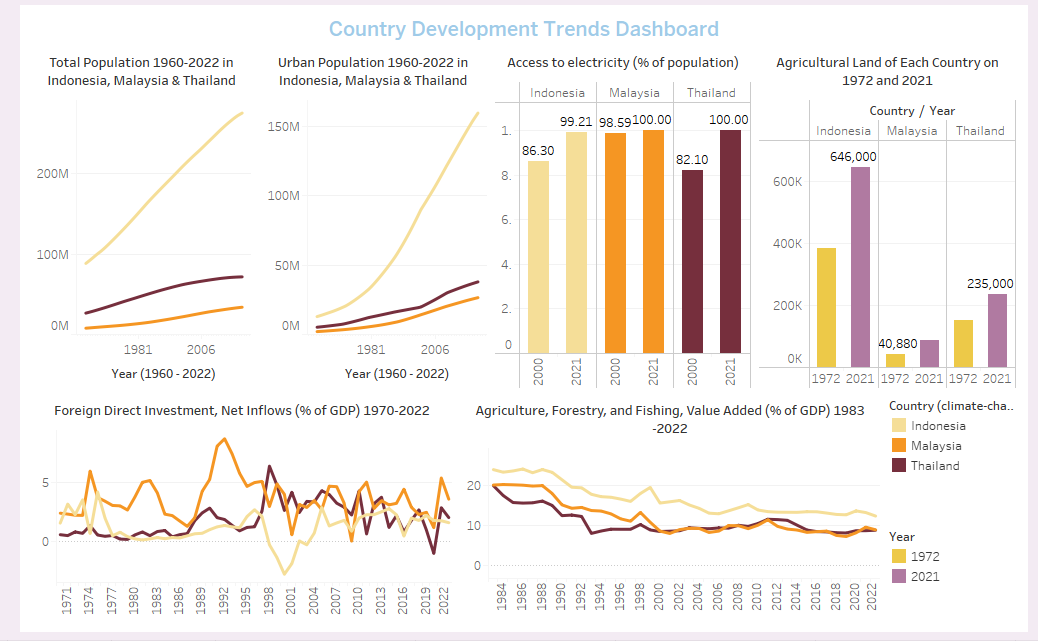

What the dashboard file says about the page in this screenshot:
{"tool":"tableau","page":{"name":"Dashboard","canvas":[1000,1000],"units":"permille","ordinal":0},"visuals":[{"type":"title","box":[6.7,14.7,986.6,58.8]},{"type":"worksheet","title":"Total Population 1960-2022 in Indonesia, Malaysia & Thailand","mark":"Line","rows":["Value"],"cols":["Year (climate-chang three countries E)"],"box":[6.7,73.5,266.2,547.8]},{"type":"worksheet","title":"Urban Population 1960-2022 in Indonesia, Malaysia & Thailand","mark":"Line","rows":["Value"],"cols":["Year (climate-chang three countries E)"],"box":[272.9,73.5,277.8,547.8]},{"type":"worksheet","title":"Access to electricity (% of population)","mark":"Bar","rows":["Value"],"cols":["Country (climate-chang three countries E)","Year (climate-chang three countries E)"],"box":[550.6,73.5,221.3,547.8]},{"type":"worksheet","title":"Agricultural Land of Each Country on 1972 and 2021","mark":"Automatic","rows":["Agricultural Land (1972) sq.km"],"cols":["Country","Year"],"box":[771.9,73.5,221.4,547.8]},{"type":"worksheet","title":"Foreign direct investment, net inflows (% of GDP) 1970-2022","mark":"Automatic","rows":["Value"],"cols":["Year (climate-chang three countries E)"],"box":[6.7,621.3,426,364]},{"type":"worksheet","title":"Agriculture, forestry, and fishing, value added (% of GDP) 1980 -2022","mark":"Automatic","rows":["Value"],"cols":["Year (climate-chang three countries E)"],"box":[432.7,621.3,426.1,364]},{"type":"legend","title":"Foreign direct investment, net inflows (% of GDP) 1970-2022","param":"[federated.0caafp70hg8x5p1di2bq116lluuw].[none:Country (climate-chang three coun","box":[858.8,621.3,134.5,205.9]},{"type":"legend","title":"Agricultural Land of Each Country on 1972 and 2021","param":"[federated.0caafp70hg8x5p1di2bq116lluuw].[none:Year:nk]","box":[858.8,827.2,134.5,158.1]}]}

Visuals, with their boxes on the dashboard's canvas, which has no fixed pixel size, in thousandths of its width and height (x1, y1, x2, y2). These are canvas units, not pixel positions in the 1038x641 screenshot, which may show the page scaled, cropped or inside an application window:
title: box(7, 15, 993, 74)
"Total Population 1960-2022 in Indonesia, Malaysia & Thailand" worksheet (Line marks): box(7, 74, 273, 621)
"Urban Population 1960-2022 in Indonesia, Malaysia & Thailand" worksheet (Line marks): box(273, 74, 551, 621)
"Access to electricity (% of population)" worksheet (Bar marks): box(551, 74, 772, 621)
"Agricultural Land of Each Country on 1972 and 2021" worksheet: box(772, 74, 993, 621)
"Foreign direct investment, net inflows (% of GDP) 1970-2022" worksheet: box(7, 621, 433, 985)
"Agriculture, forestry, and fishing, value added (% of GDP) 1980 -2022" worksheet: box(433, 621, 859, 985)
"Foreign direct investment, net inflows (% of GDP) 1970-2022" legend: box(859, 621, 993, 827)
"Agricultural Land of Each Country on 1972 and 2021" legend: box(859, 827, 993, 985)
